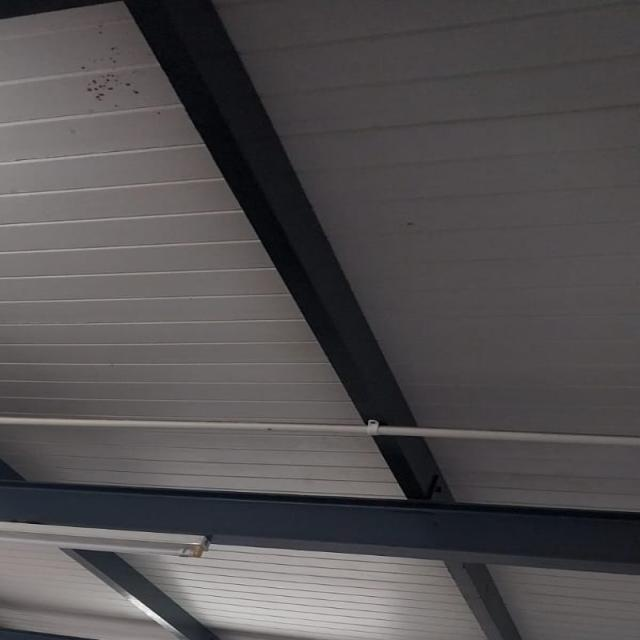fluorescent tube: (0, 492, 221, 580)
